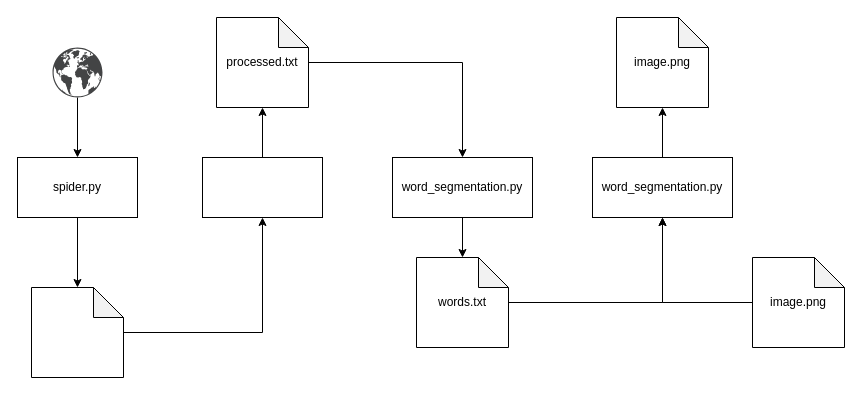
The diagram is 862 pixels wide and 395 high, and some of its shapes have lost their labels. The shapes that lost their labels are listed below. From the top down, each one's centre as x and y in pixels, then its label:
the point at 77,72: 豆瓣网
the point at 262,187: precess.py
the point at 77,332: comments.csv
